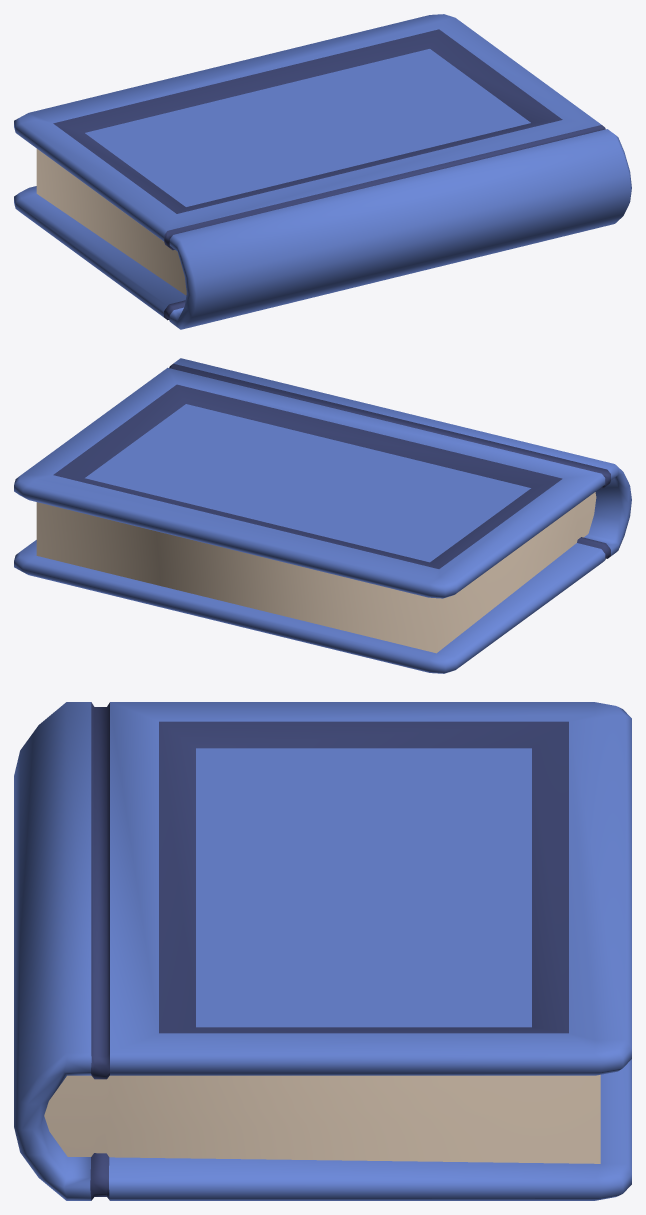
The model's file is book_blue.fbx.
3 views of the same model, one above another, from view 1: azimuth 30°, elevation 25°; view 2: azimuth 150°, elevation 25°; view 3: azimuth 270°, elevation 25° (orthographic). The views are drawn at different scales.
Visible parts, largest first — view 1: Cube.002; view 2: Cube.002; view 3: Cube.002.
Boxes of the visible parts, x1=… form: Cube.002: x1=14, y1=14, x2=631, y2=329; Cube.002: x1=14, y1=358, x2=631, y2=673; Cube.002: x1=14, y1=702, x2=631, y2=1200.
Bounding box in the file's own units: 91.83 × 17.78 × 67.28.
